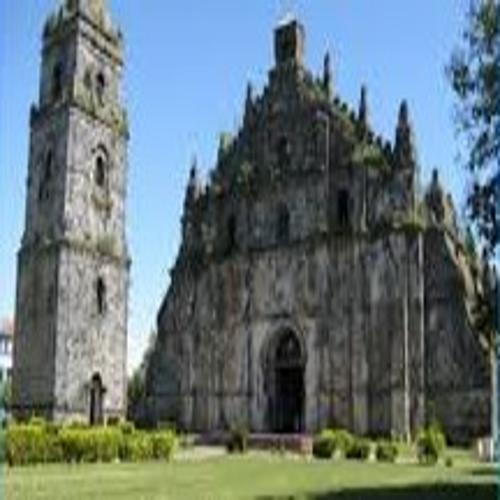Paoay Church: (13, 2, 483, 450)
